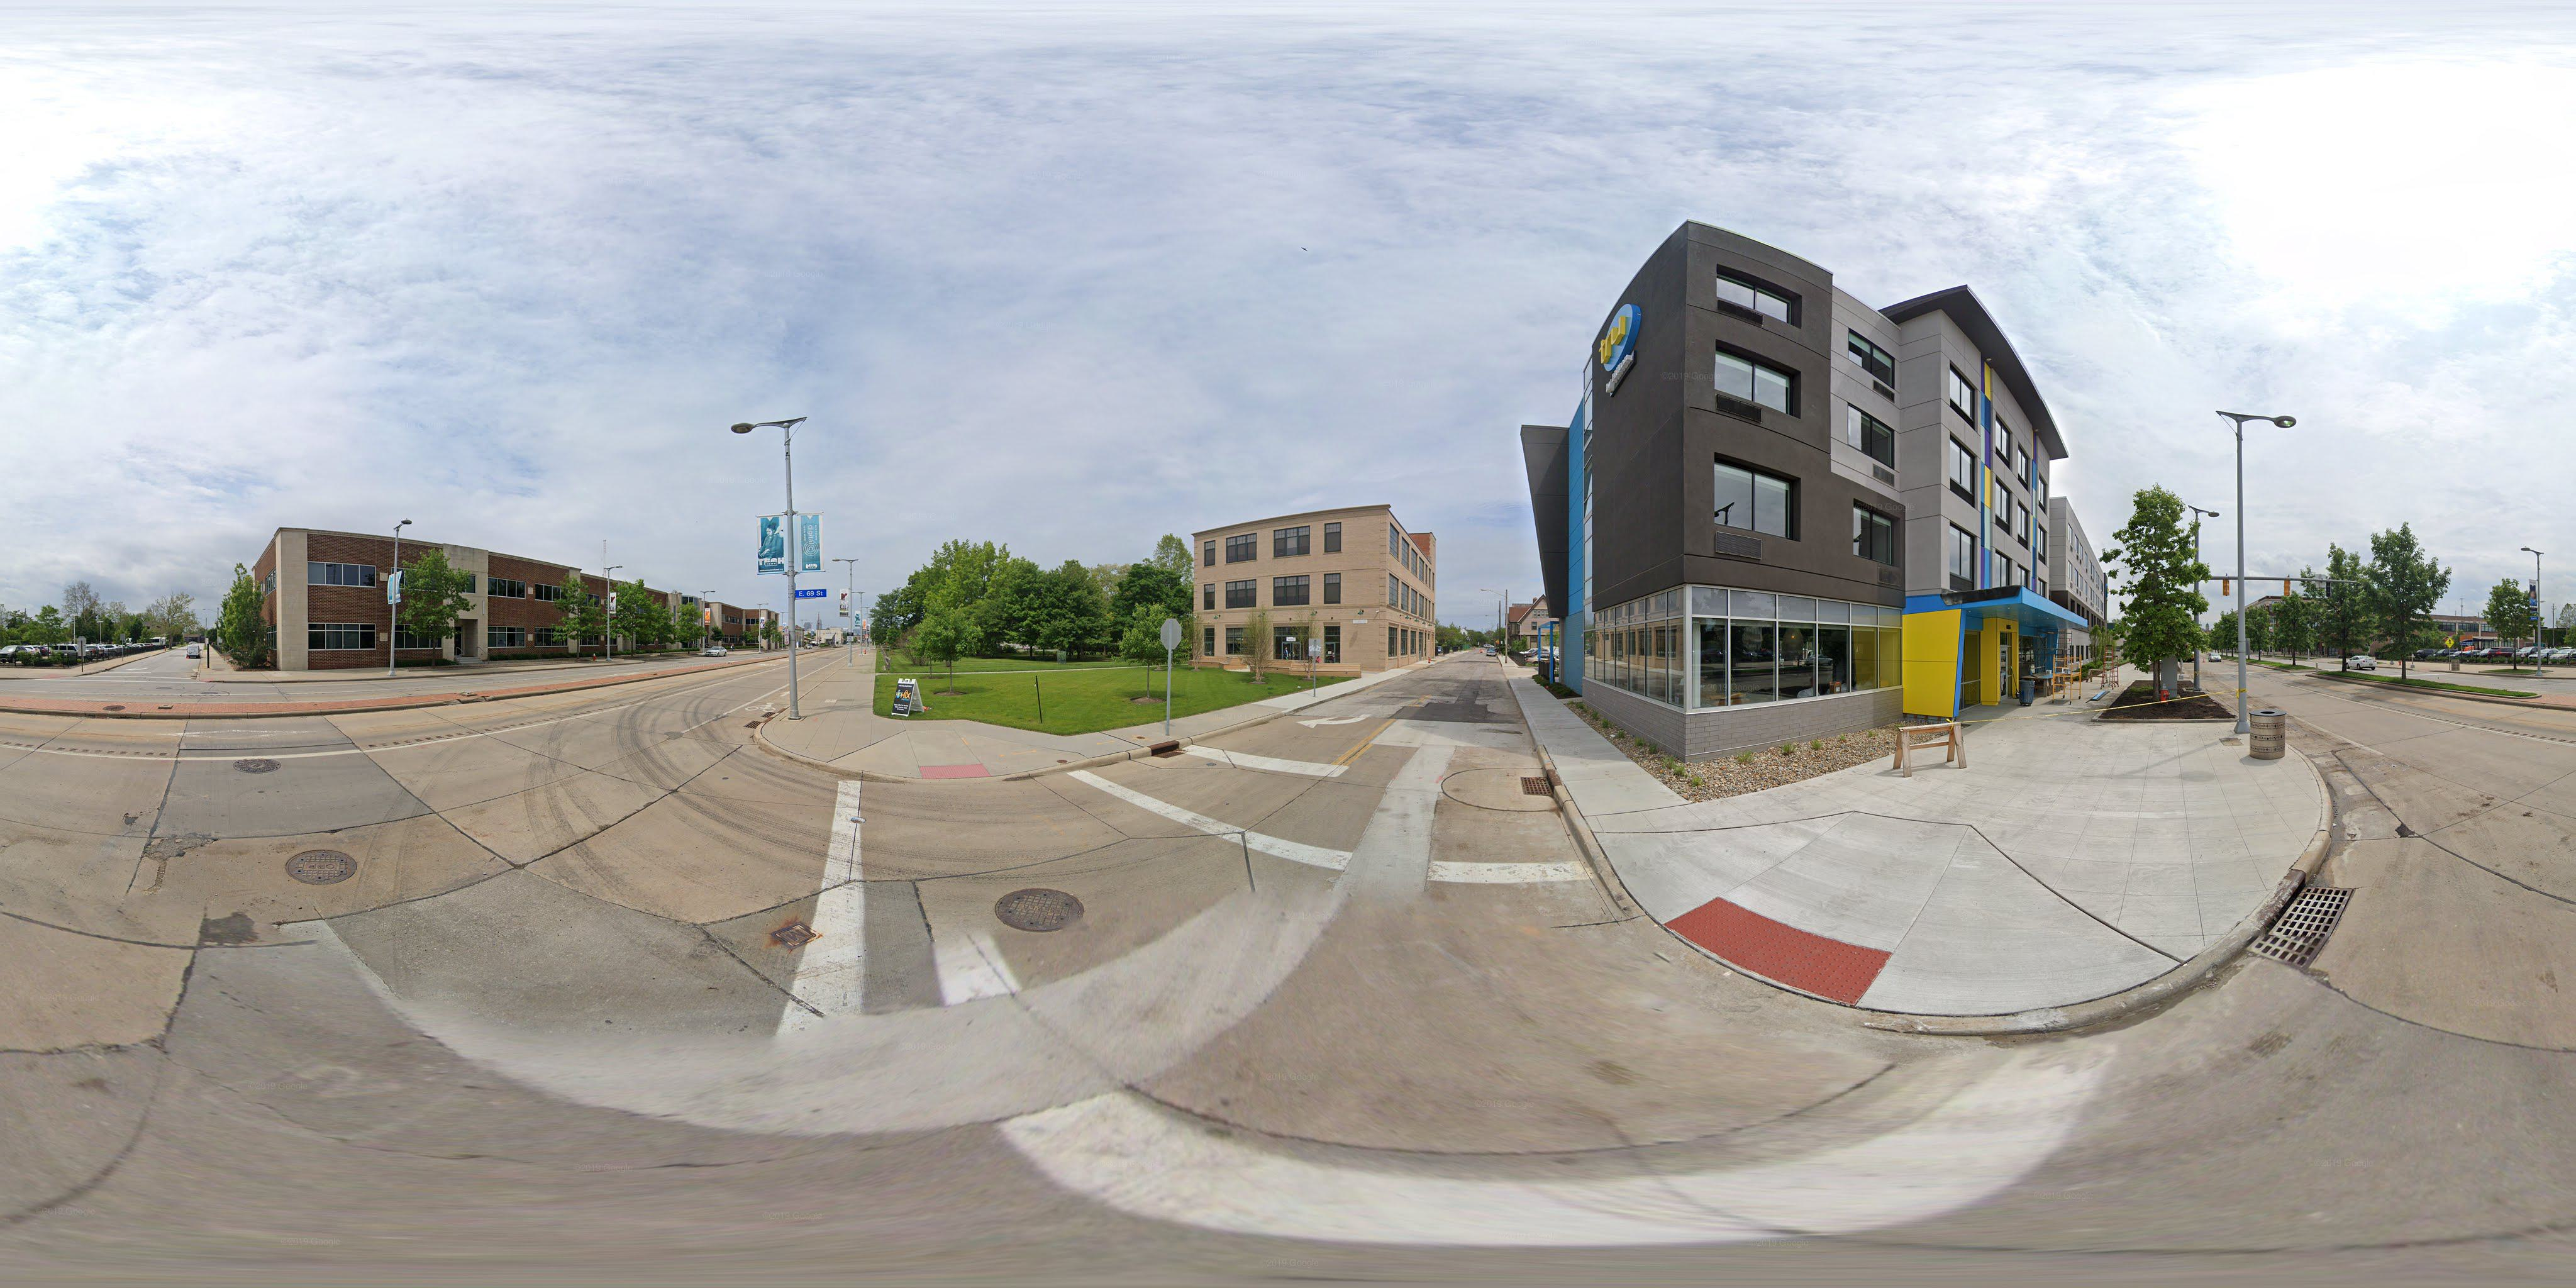Curb Ramp: (1607, 820, 1965, 1079), (899, 743, 999, 812), (38, 669, 76, 682), (194, 672, 217, 683)
